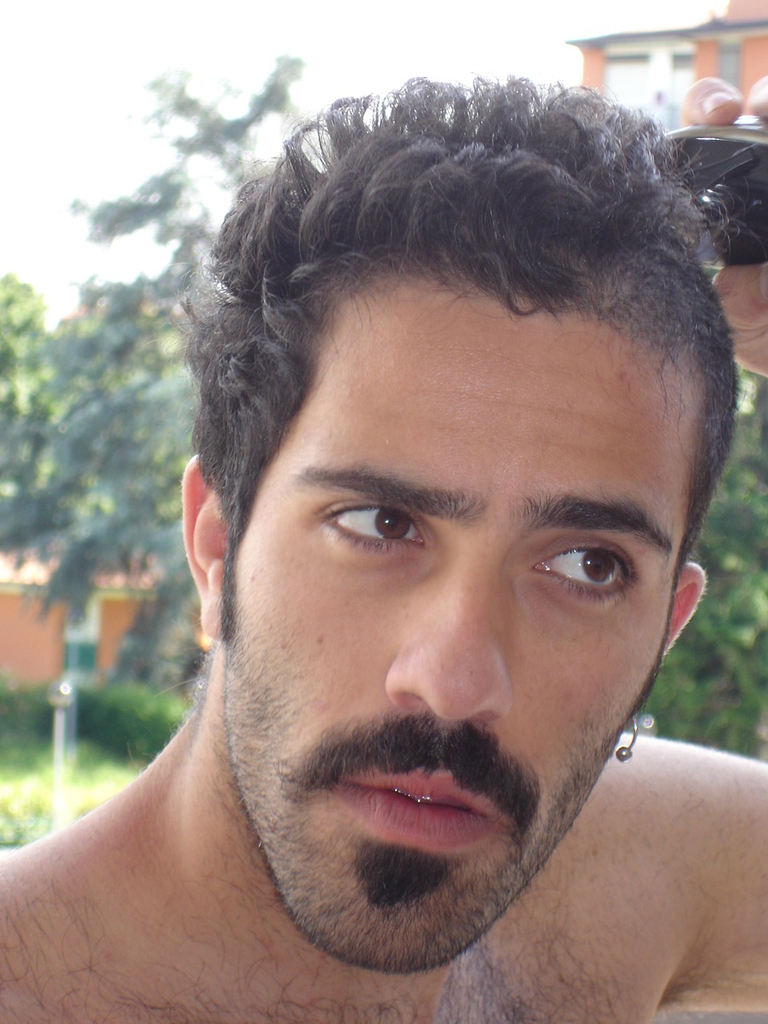Tree: (0, 61, 307, 701)
